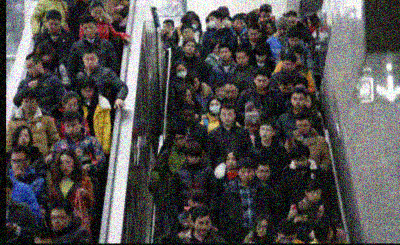with_mask: (209, 101, 222, 113), (176, 67, 187, 77), (209, 17, 218, 27), (191, 20, 199, 31)
without_mask: (195, 218, 212, 235), (50, 213, 68, 229), (64, 121, 81, 137), (10, 156, 26, 172), (59, 158, 74, 174), (22, 98, 37, 113), (172, 134, 187, 148), (221, 110, 235, 125), (17, 132, 31, 146), (84, 55, 98, 69), (83, 24, 97, 38), (239, 168, 253, 182), (259, 126, 273, 140), (224, 88, 238, 101), (257, 167, 270, 181), (307, 189, 321, 202), (320, 229, 334, 242), (26, 63, 39, 76), (292, 95, 305, 108), (297, 122, 310, 135), (256, 222, 268, 236), (293, 157, 308, 168), (81, 87, 94, 99), (183, 112, 195, 125), (255, 78, 268, 90), (226, 156, 237, 170), (48, 21, 60, 33), (219, 49, 231, 61), (236, 54, 248, 66), (91, 9, 104, 20), (187, 154, 200, 165), (65, 101, 79, 111), (190, 199, 204, 209), (282, 61, 296, 71), (182, 28, 194, 39), (280, 85, 293, 95), (184, 42, 195, 53), (215, 87, 225, 99), (247, 122, 259, 132), (234, 20, 244, 31), (248, 31, 259, 41), (183, 91, 192, 103), (288, 37, 300, 46), (40, 53, 51, 62), (256, 53, 266, 62), (192, 79, 200, 90), (288, 18, 297, 27), (305, 98, 312, 109), (261, 12, 270, 20), (316, 209, 325, 217), (161, 24, 168, 34), (266, 24, 273, 34), (277, 27, 287, 34), (188, 217, 194, 228), (213, 45, 220, 54), (296, 55, 301, 66), (307, 20, 314, 27)
